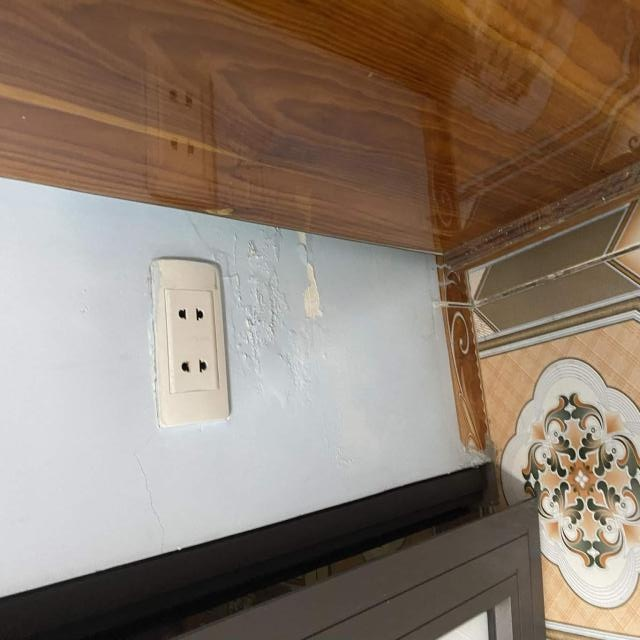outlet: (148, 258, 230, 430)
